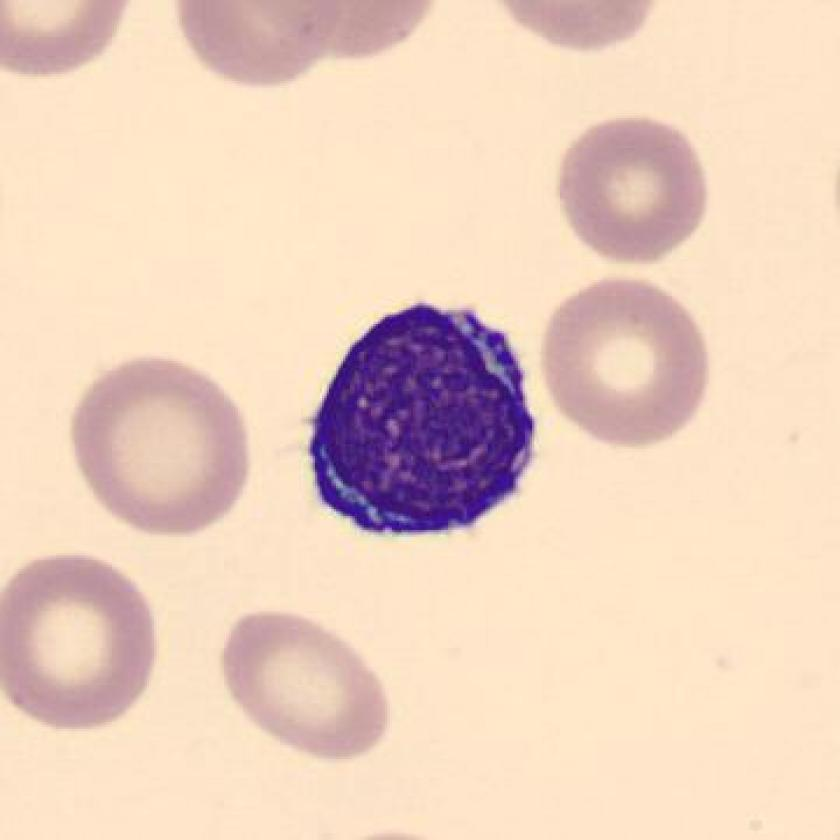lymphocyte: (295, 283, 556, 566)
